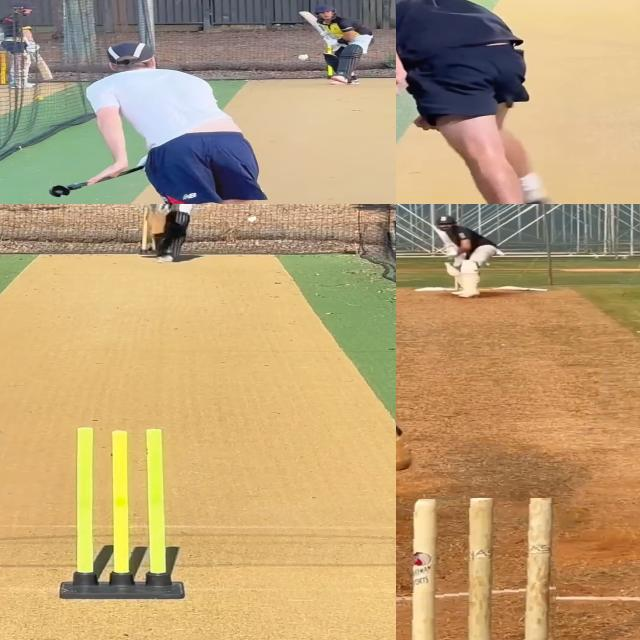Cricket ball: (297, 54, 309, 62), (246, 216, 259, 223)
Stumps: (59, 426, 186, 599), (410, 498, 559, 640)
